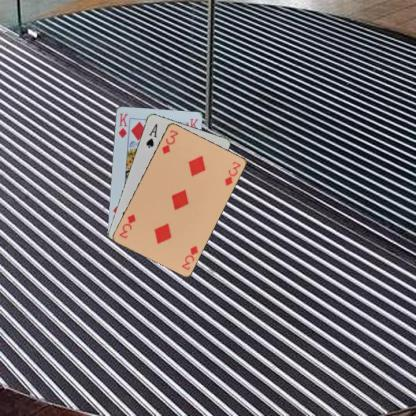3d: (160, 127, 180, 156), (179, 243, 199, 271)
As: (144, 121, 158, 149)
Kd: (115, 110, 129, 139)
